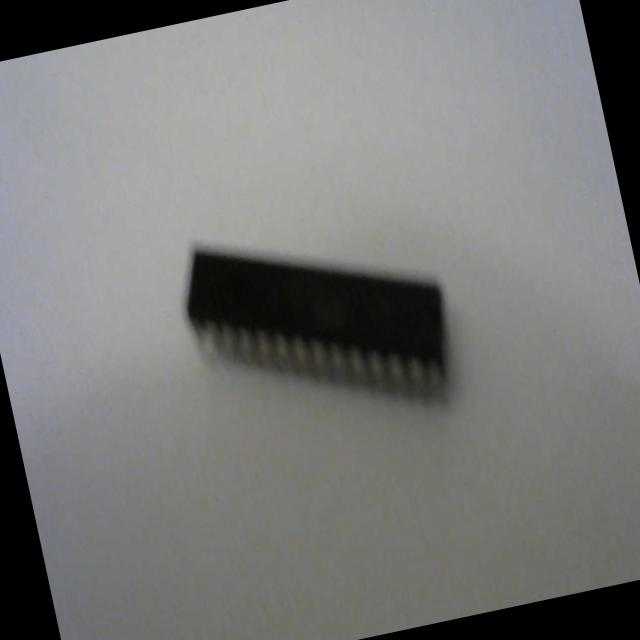atmega: (169, 191, 467, 454)
